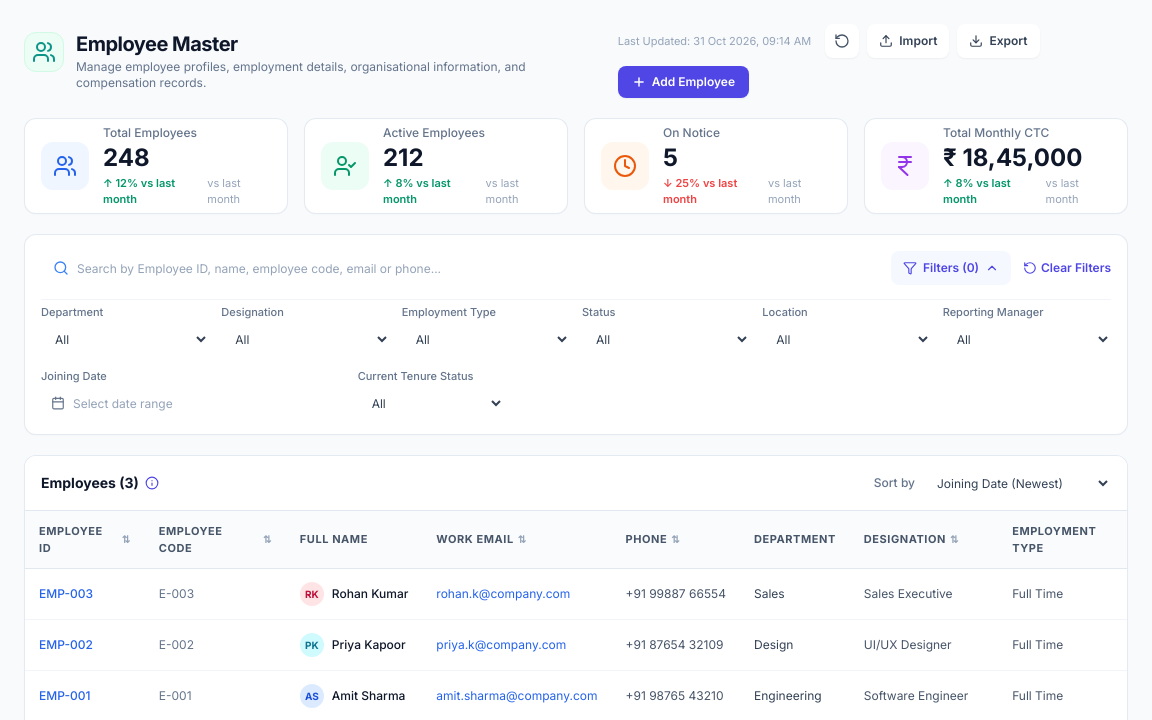
it: EmployeeMasterPage Component › filters employees by search query
This screenshot has width=1152, height=720.
Replace the text in the field with placeholder "Search by Employee ID, name" with "Priya". click: (370, 268)
box: [41,251,698,285]
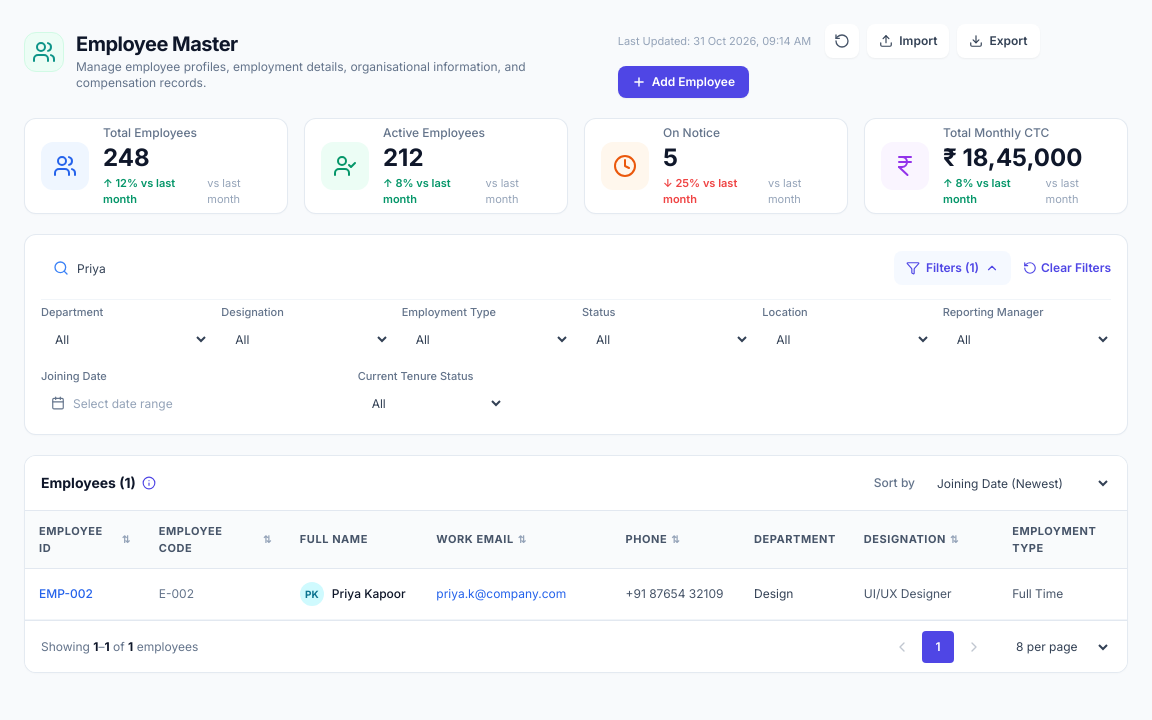
Expected: the text "Priya Kapoor" is shown, [332,586,406,602]
Expected: the text "Amit Sharma" is gone
